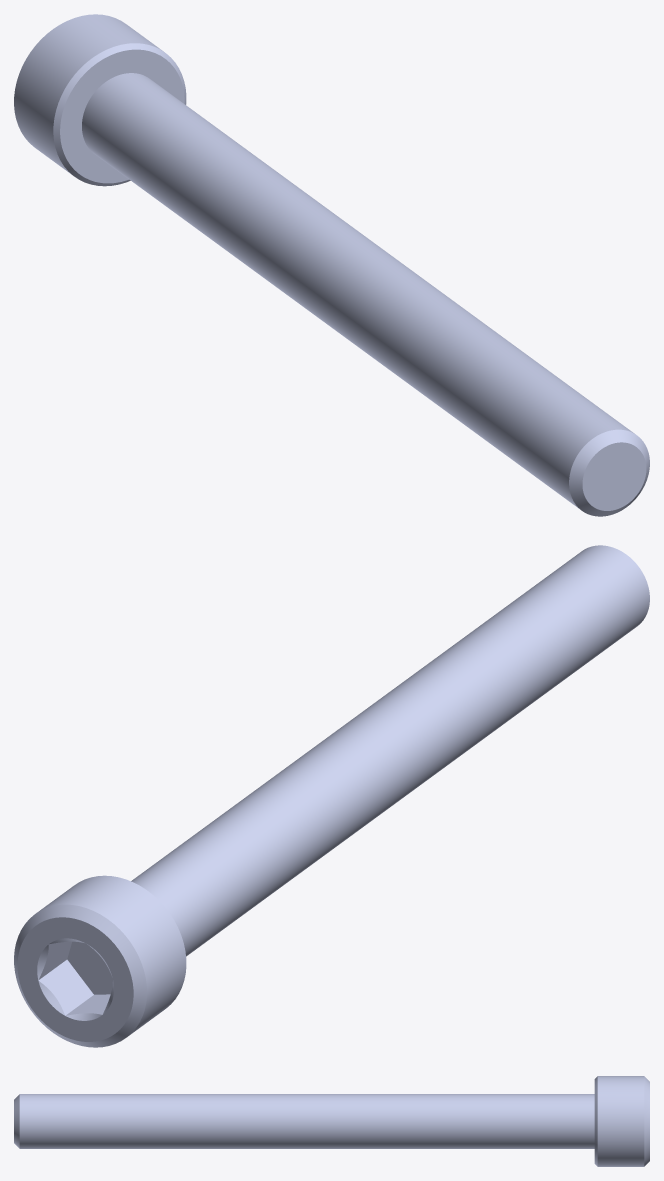
Rendered from Chamfer3_1.obj.
3 views of the same model, one above another, from view 1: azimuth 30°, elevation 25°; view 2: azimuth 150°, elevation 25°; view 3: azimuth 270°, elevation 25° (orthographic). The views are drawn at different scales.
Parts seen in each view (by area): view 1: mesh21560, mesh21555, mesh21558, mesh21563, mesh21562, mesh21557; view 2: mesh21560, mesh21555, mesh21551, mesh21553, mesh21545, mesh21542, mesh21552; view 3: mesh21559, mesh21560, mesh21554, mesh21555, mesh21552, mesh21556, mesh21561, mesh21553.
Boxes of the visible parts, <box> form: mesh21560: <box>82,73,634,508</box>; mesh21555: <box>14,14,163,175</box>; mesh21558: <box>60,49,184,183</box>; mesh21563: <box>582,442,646,510</box>; mesh21562: <box>569,429,637,510</box>; mesh21557: <box>53,43,166,175</box>; mesh21560: <box>131,545,649,956</box>; mesh21555: <box>37,875,186,1035</box>; mesh21551: <box>17,917,133,1041</box>; mesh21553: <box>34,904,146,1036</box>; mesh21545: <box>38,959,93,1015</box>; mesh21542: <box>67,941,112,994</box>; mesh21552: <box>14,915,126,1047</box>; mesh21559: <box>19,1111,594,1148</box>; mesh21560: <box>19,1094,594,1111</box>; mesh21554: <box>597,1105,644,1166</box>; mesh21555: <box>597,1076,644,1105</box>; mesh21552: <box>644,1105,649,1166</box>; mesh21556: <box>594,1105,597,1166</box>; mesh21561: <box>14,1112,19,1148</box>; mesh21553: <box>644,1076,649,1107</box>.
Bounding box in the file's own units: 0.00793 × 0.00794 × 0.0556.
